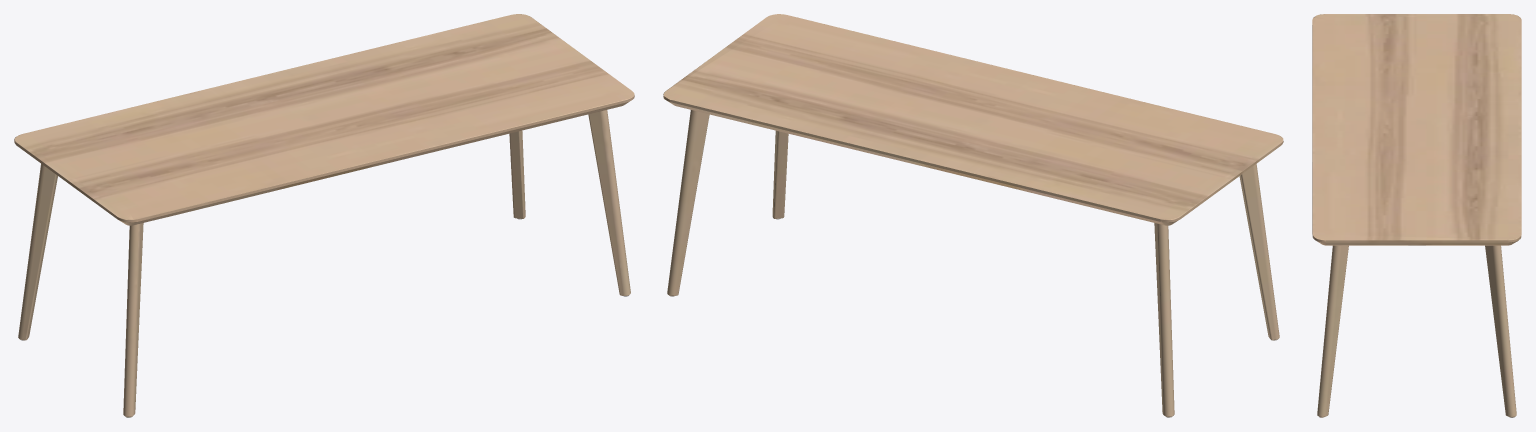
3 renders of one model, left to right at view 1: azimuth 30°, elevation 25°; view 2: azimuth 150°, elevation 25°; view 3: azimuth 270°, elevation 25°, orthographic. The views are drawn at different scales.
Visible parts, largest first — view 1: model; view 2: model; view 3: model.
Boxes of the visible parts, x1,y1,x2,y2 form: model: [14, 14, 634, 417]; model: [663, 14, 1283, 417]; model: [1312, 14, 1521, 417].
Bounding box in the file's own units: 2 × 0.7446 × 0.7808.
1 material, 1 textured.
